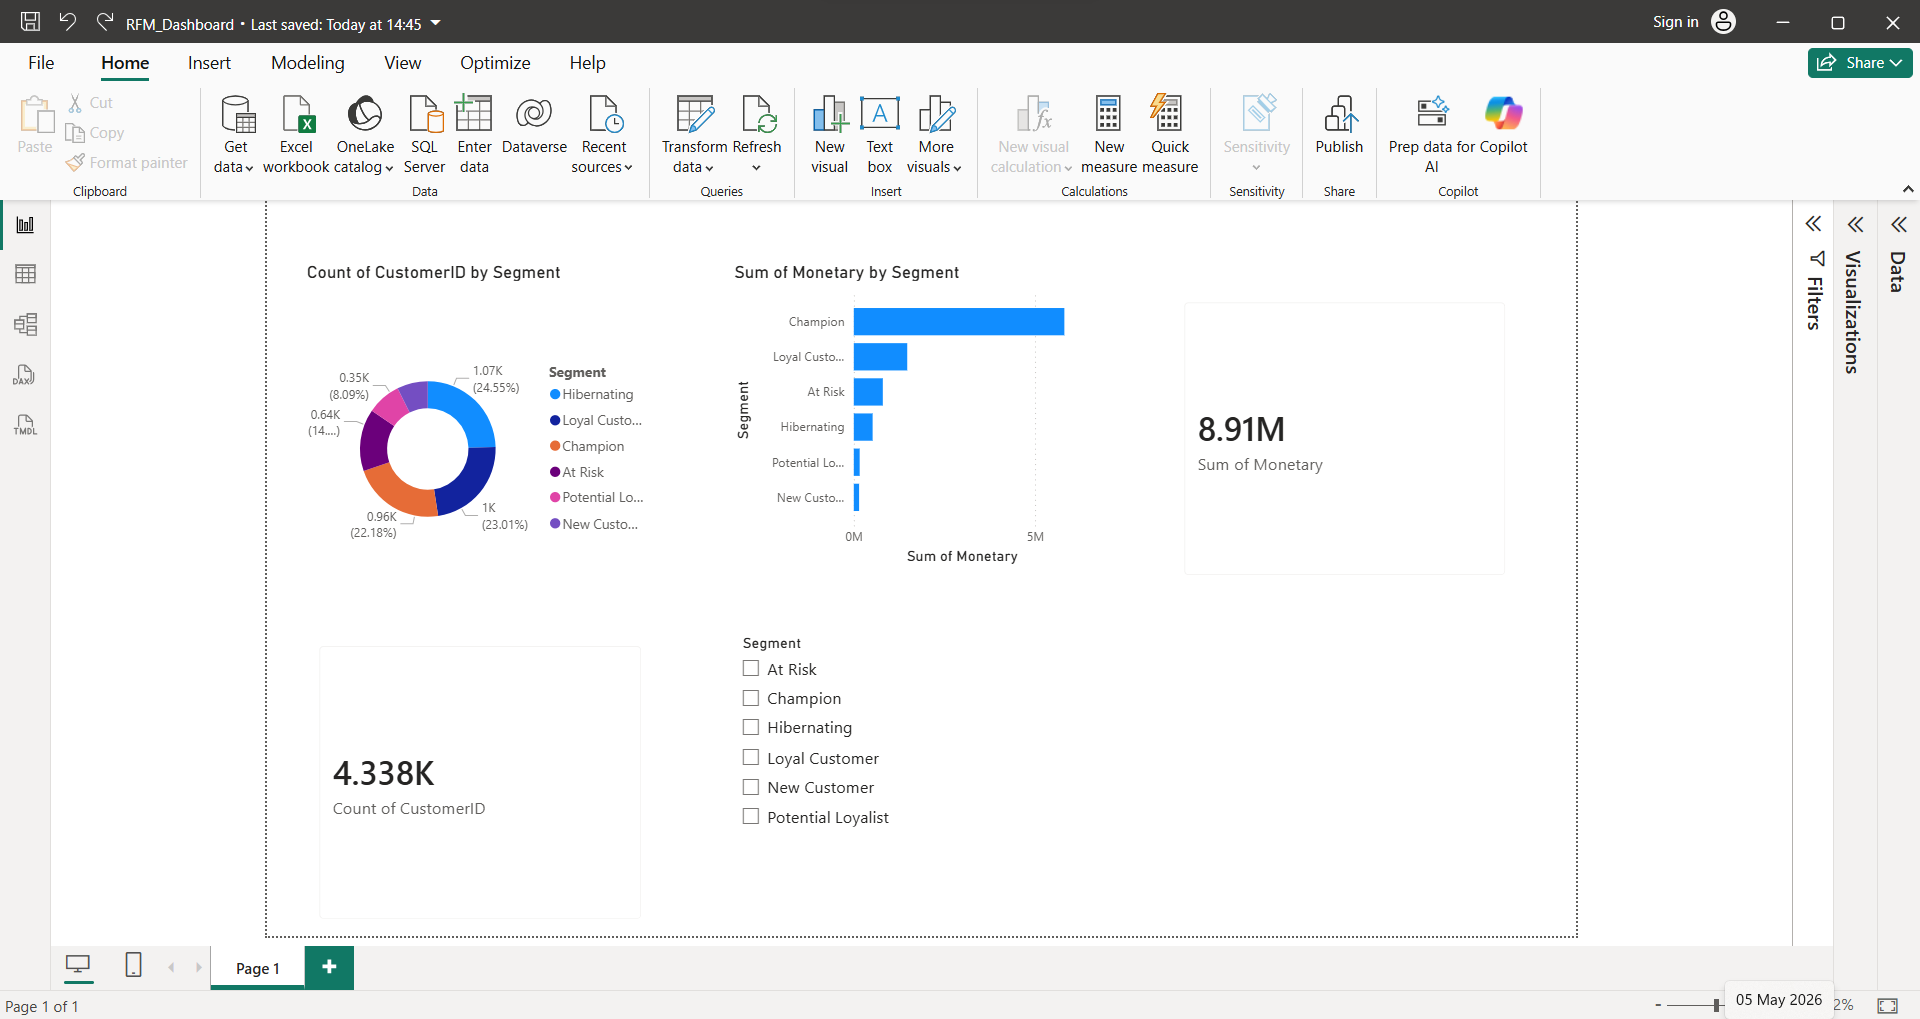

The dashboard page shown, as its layout file describes it:
{"tool":"powerbi","page":{"name":"Page 1","canvas":[1280,720],"ordinal":0},"visuals":[{"type":"donutChart","fields":{"Category":["rfm_results (2).Segment"],"Y":["CountNonNull(rfm_results (2).CustomerID)"]},"box":[34.3,60.4,348.5,348.5],"z":0},{"type":"clusteredBarChart","fields":{"Category":["rfm_results (2).Segment"],"Y":["Sum(rfm_results (2).Monetary)"]},"box":[452.8,60.4,348.5,301.9],"z":1000},{"type":"cardVisual","fields":{"Data":["Sum(rfm_results (2).Monetary)"]},"box":[881,83.7,348.5,301.9],"z":2000},{"type":"cardVisual","fields":{"Data":["CountNonNull(rfm_results (2).CustomerID)"]},"box":[34,419,349,301],"z":3000},{"type":"slicer","fields":{"Values":["rfm_results (2).Segment"]},"box":[453,419,349,301],"z":3001}]}

Visuals, with their boxes on the page's 1280x720 design canvas (x1, y1, x2, y2). These are canvas units, not pixel positions in the 1920x1019 screenshot, which may show the page scaled, cropped or inside an application window:
donutChart - rfm_results (2).Segment x CountNonNull(rfm_results (2).CustomerID): rect(34, 60, 383, 409)
clusteredBarChart - rfm_results (2).Segment x Sum(rfm_results (2).Monetary): rect(453, 60, 801, 362)
cardVisual - Sum(rfm_results (2).Monetary): rect(881, 84, 1230, 386)
cardVisual - CountNonNull(rfm_results (2).CustomerID): rect(34, 419, 383, 720)
slicer - rfm_results (2).Segment: rect(453, 419, 802, 720)
